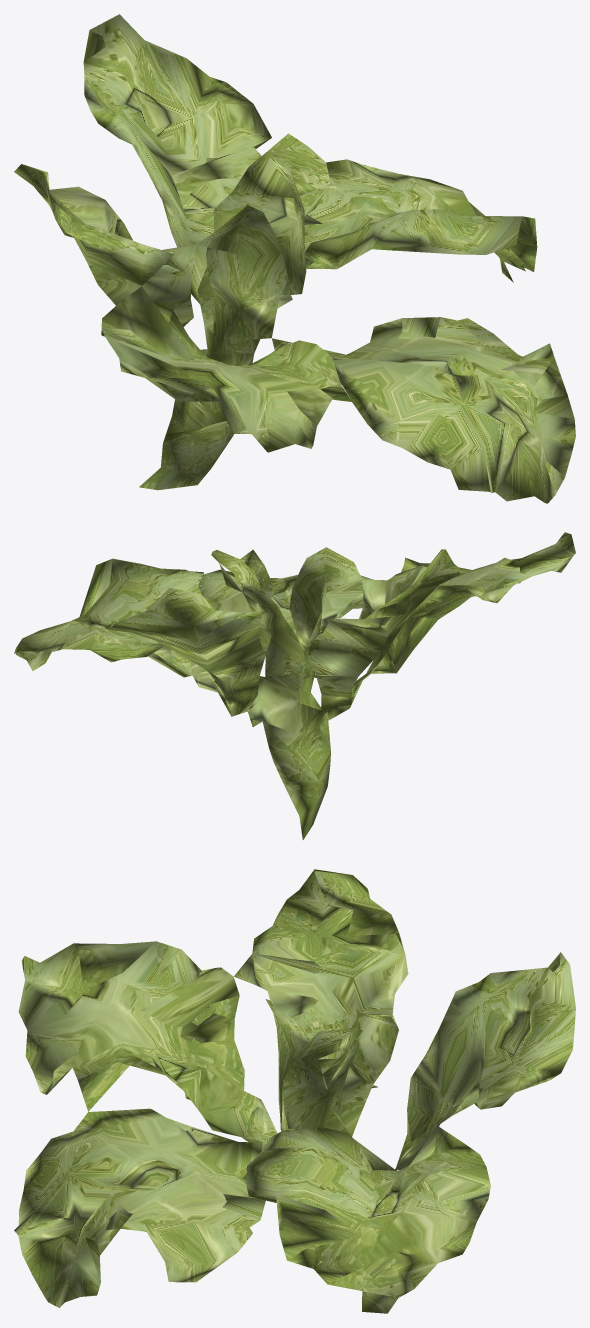
File: lingcao_qingxin_young.obj
3 renders of one model, top to bottom at view 1: azimuth 30°, elevation 25°; view 2: azimuth 150°, elevation 25°; view 3: azimuth 270°, elevation 25°, orthographic. The views are drawn at different scales.
Parts seen in each view (by area): view 1: lingcao_qingxin_young; view 2: lingcao_qingxin_young; view 3: lingcao_qingxin_young.
Boxes of the visible parts, x1=… form: lingcao_qingxin_young: x1=14, y1=14, x2=575, y2=503; lingcao_qingxin_young: x1=14, y1=532, x2=575, y2=839; lingcao_qingxin_young: x1=14, y1=869, x2=575, y2=1313.
Size of the model in its own units: 0.2281 by 0.1538 by 0.228.
Materials: 1 (1 with a texture image).
